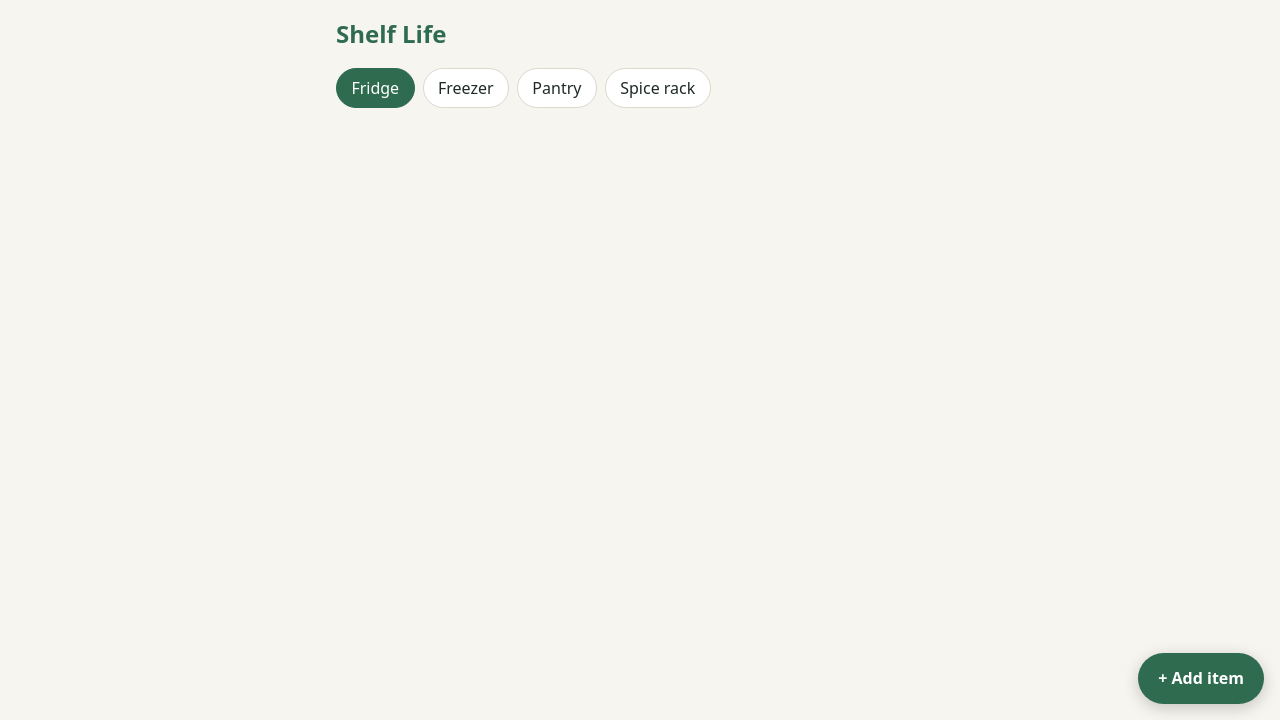
Test: App shell › switches location when a tab is clicked
What coordinates should you click on to do the following:
click the tab "Pantry"
I would click on:
 (557, 88)
Its box is [517, 68, 597, 108].
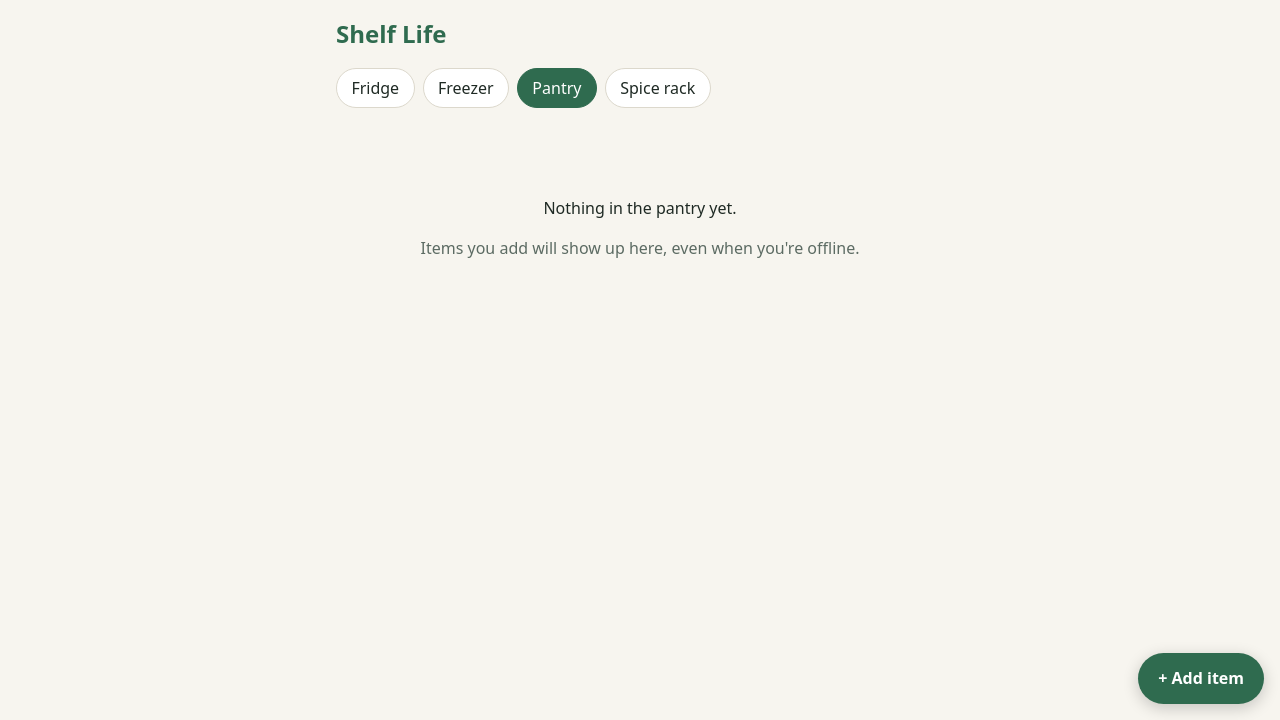
Now the text "Nothing in the pantry yet." is shown, box [543, 197, 737, 219]
